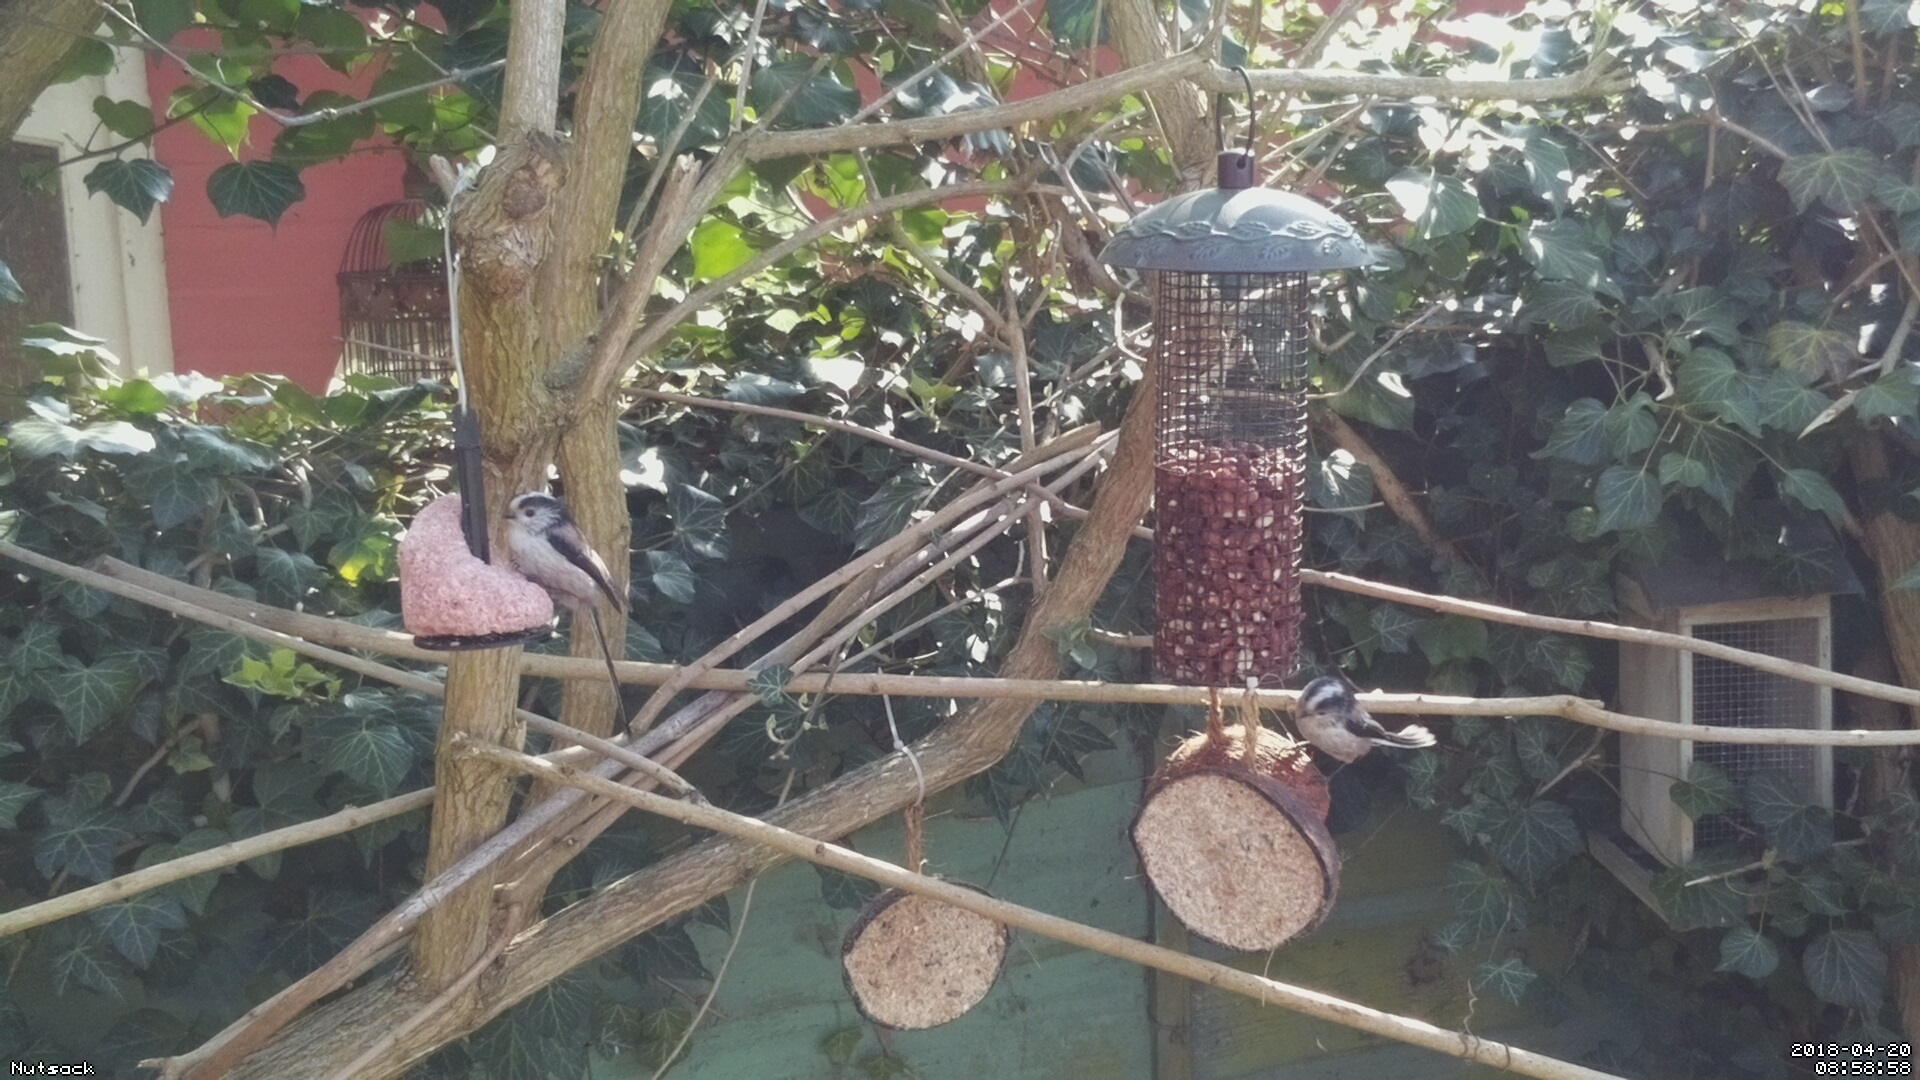long tailed tit: (502, 492, 633, 742), (1282, 676, 1437, 783)
